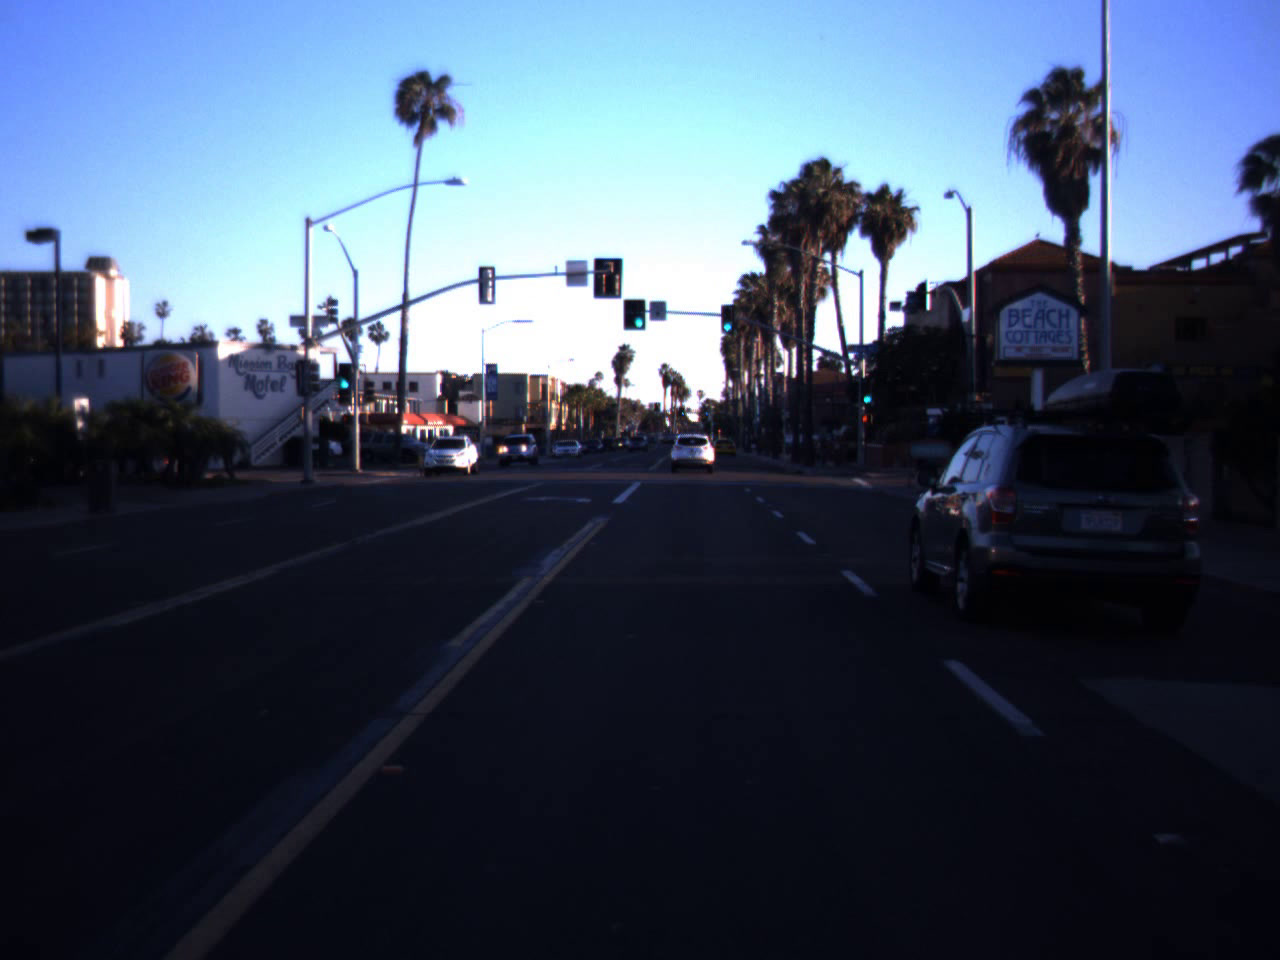go: (336, 356, 354, 391), (858, 379, 876, 404), (718, 307, 736, 332), (632, 301, 647, 330)
